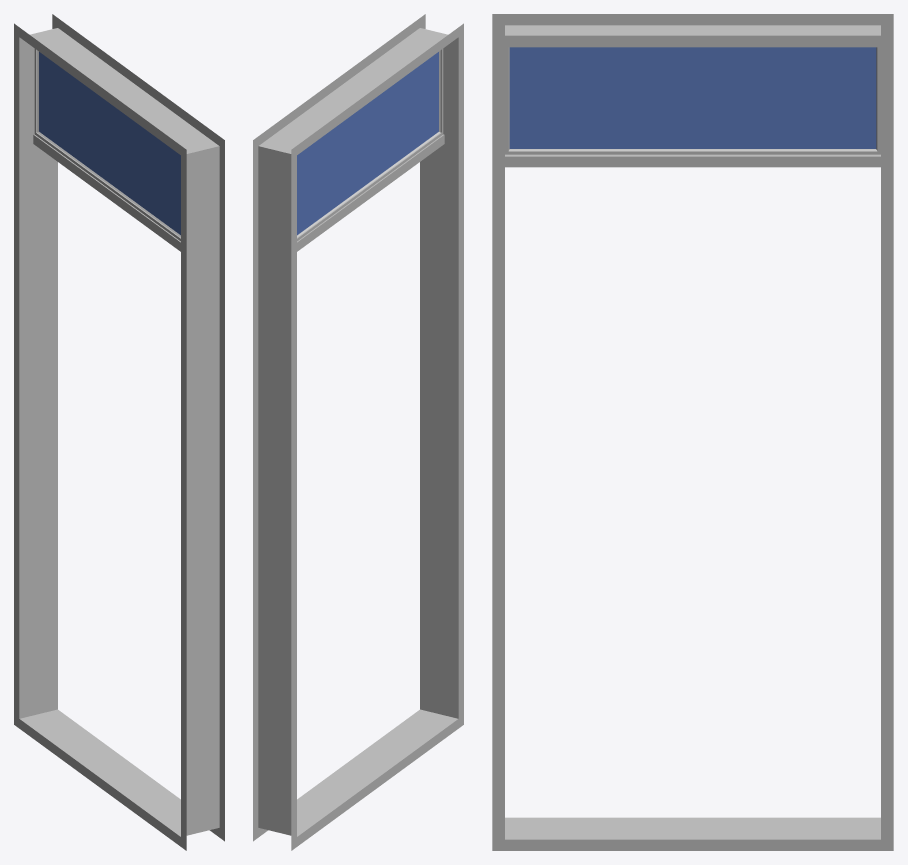
File: door13_frame.fbx
3 views of the same model, side by side, from view 1: azimuth 30°, elevation 25°; view 2: azimuth 150°, elevation 25°; view 3: azimuth 270°, elevation 25° (orthographic). The views are drawn at different scales.
Visible parts, largest first — view 1: Cylinder_2_2_7; view 2: Cylinder_2_2_7; view 3: Cylinder_2_2_7.
Boxes of the visible parts, x1,y1,x2,y2 form: Cylinder_2_2_7: (14, 14, 224, 850); Cylinder_2_2_7: (253, 14, 463, 850); Cylinder_2_2_7: (492, 14, 893, 850).
Size of the model in its own units: 15.52 by 270 by 121.
